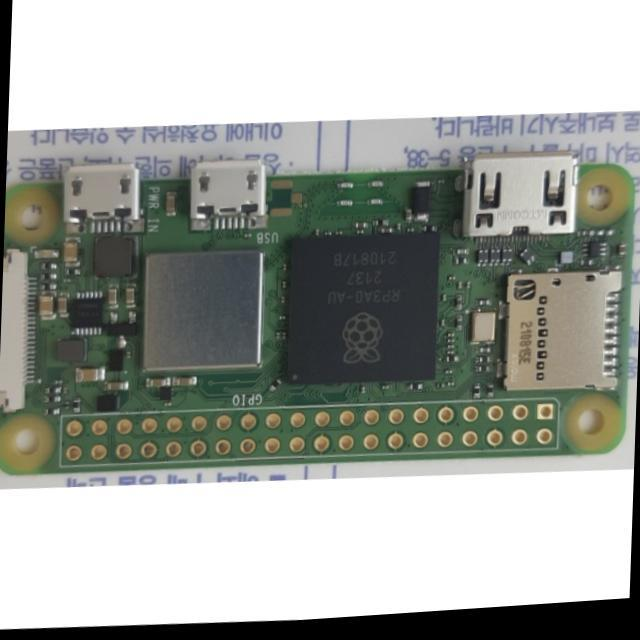Raspberry-Pi-Zero-2-W: (1, 154, 635, 474)
